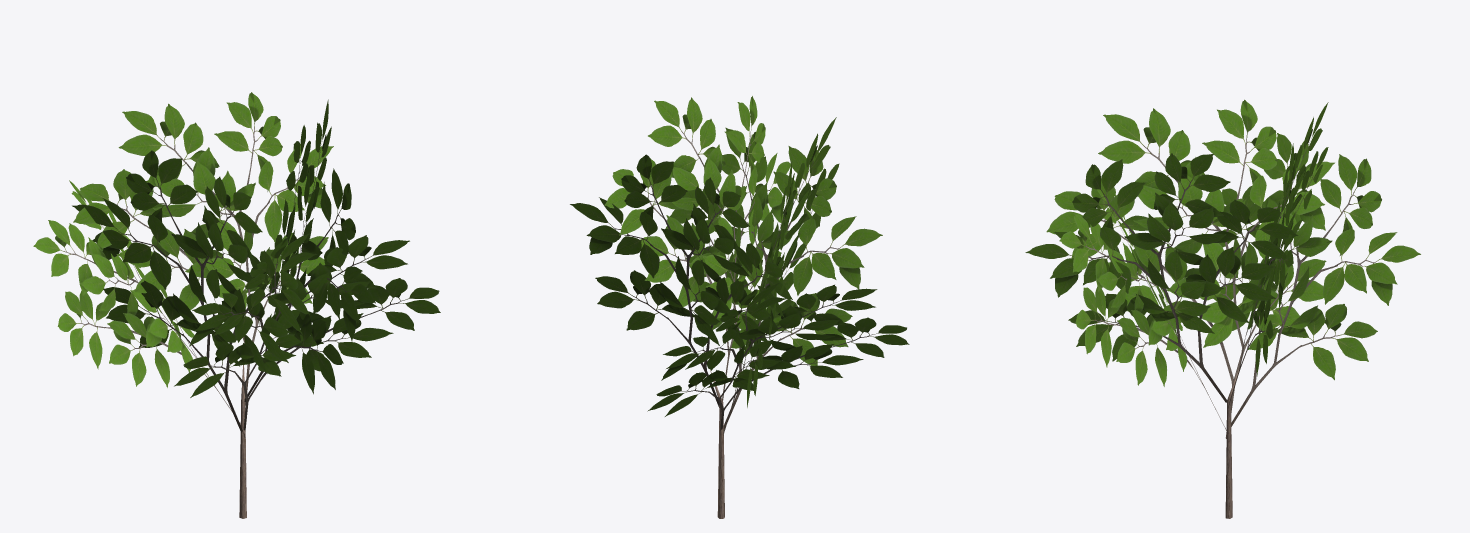
Rendered from Lemon Tree 1.glb.
3 views of the same model, side by side, from view 1: azimuth 30°, elevation 25°; view 2: azimuth 150°, elevation 25°; view 3: azimuth 270°, elevation 25° (orthographic). The views are drawn at different scales.
Parts seen in each view (by area): view 1: Lemon Tree 1; view 2: Lemon Tree 1; view 3: Lemon Tree 1.
Boxes of the visible parts, x1,y1,x2,y2 form: Lemon Tree 1: [33, 92, 440, 518]; Lemon Tree 1: [570, 96, 909, 518]; Lemon Tree 1: [1025, 99, 1420, 518].
Size of the model in its own units: 0.8035 by 0.8858 by 0.8245.
Materials: 2 (2 with a texture image).
